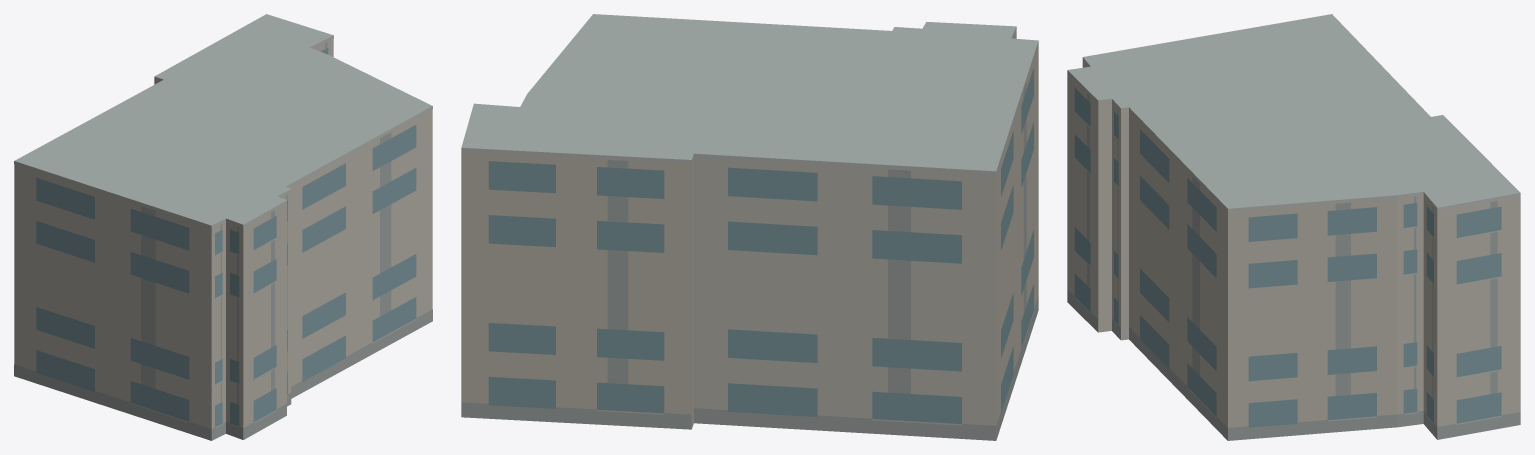
File: survey-upis-32602293.glb
3 views of the same model, side by side, from view 1: azimuth 30°, elevation 25°; view 2: azimuth 150°, elevation 25°; view 3: azimuth 270°, elevation 25° (orthographic). The views are drawn at different scales.
Parts seen in each view (by area): view 1: survey-upis-32602293.tmp; view 2: survey-upis-32602293.tmp; view 3: survey-upis-32602293.tmp.
Boxes of the visible parts, bbox=[...] form: survey-upis-32602293.tmp: bbox=[14, 14, 432, 440]; survey-upis-32602293.tmp: bbox=[461, 14, 1038, 440]; survey-upis-32602293.tmp: bbox=[1067, 14, 1520, 440].
Size of the model in its own units: 27.45 by 15.25 by 27.
